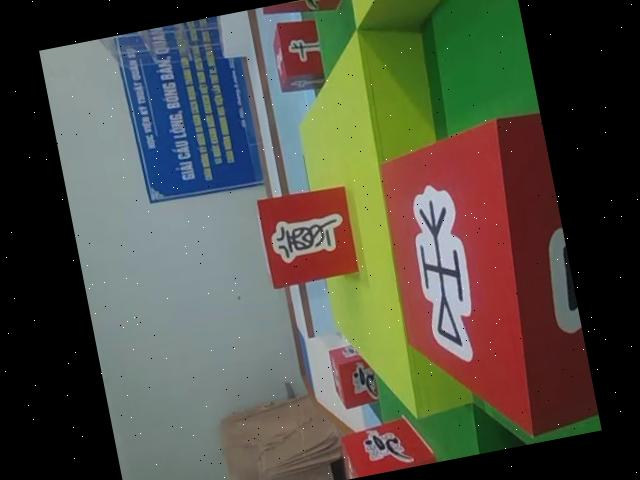R1: (332, 409, 438, 480), (323, 338, 387, 413)
R2 Fake: (252, 179, 365, 292)
R2 Real: (361, 106, 601, 460), (264, 11, 333, 98)
